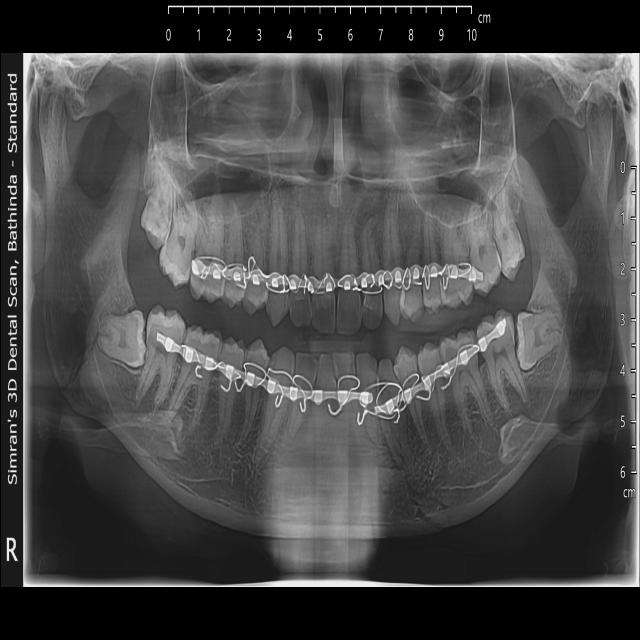Mandibular Canal: (437, 268, 586, 491), (73, 258, 173, 460)
impacted tooth: (96, 309, 147, 368), (517, 311, 562, 368), (140, 185, 173, 251)
maxillary sinus: (146, 51, 292, 221), (387, 54, 515, 226)
